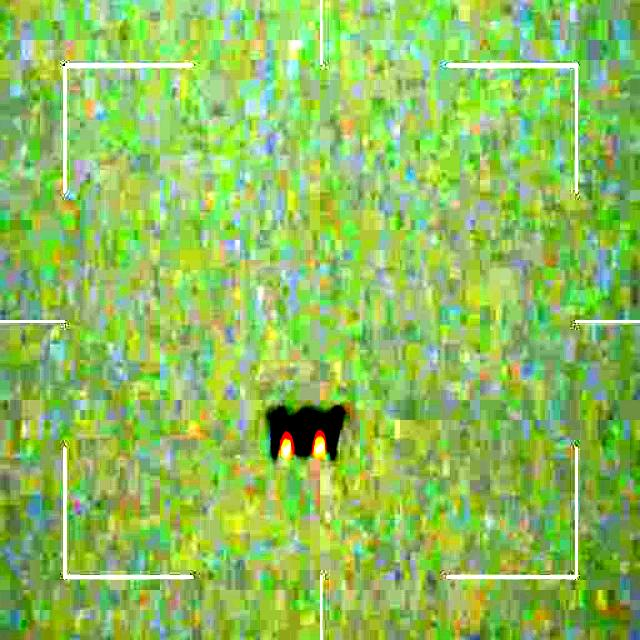bird: (269, 400, 348, 460)
